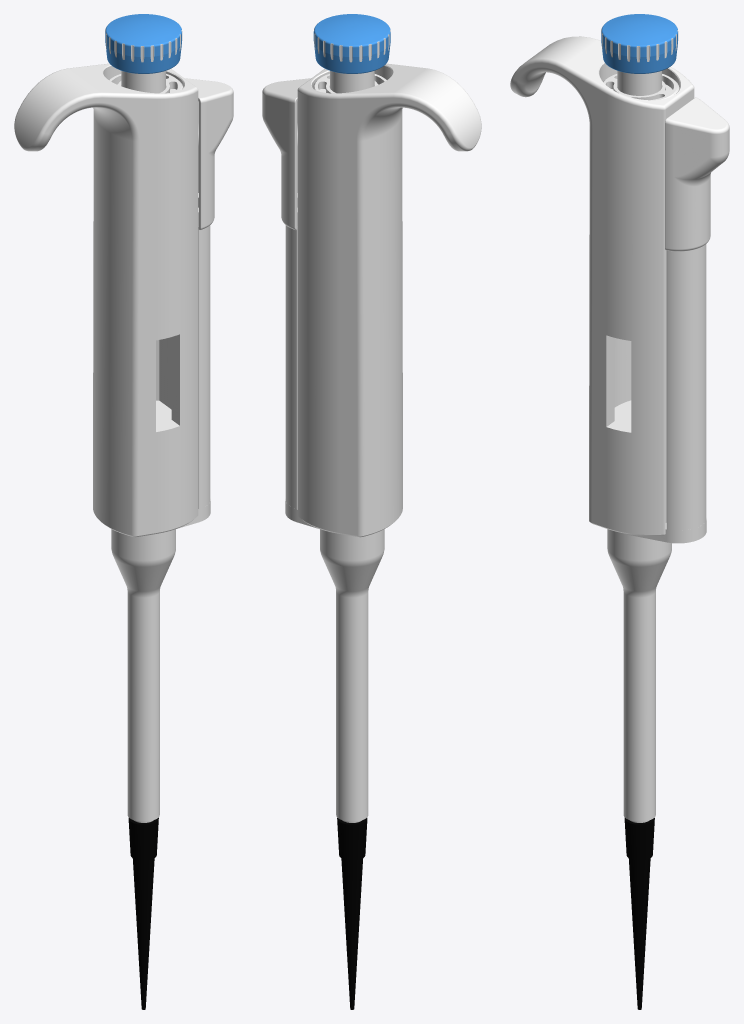
The model's file is small_ppt_new.fbx.
3 views of the same model, side by side, from view 1: azimuth 30°, elevation 25°; view 2: azimuth 150°, elevation 25°; view 3: azimuth 330°, elevation 25° (orthographic).
Visible parts, largest first — view 1: White-PW-MT11050, White-PW-MT11050-3, white-pw-mt11050, White-PW-MT11050-5, brown glass, White-PW-MT11050-2; view 2: White-PW-MT11050, White-PW-MT11050-3, white-pw-mt11050, White-PW-MT11050-5, brown glass, White-PW-MT11050-2; view 3: White-PW-MT11050, White-PW-MT11050-3, White-PW-MT11050-5, white-pw-mt11050, brown glass, White-PW-MT11050-2.
Boxes of the visible parts, x1,y1,x2,y2 form: White-PW-MT11050: (14,63,198,537); White-PW-MT11050-3: (111,193,210,821); white-pw-mt11050: (105,14,181,73); White-PW-MT11050-5: (185,78,233,229); brown glass: (128,817,158,1009); White-PW-MT11050-2: (105,29,182,93); White-PW-MT11050: (297,63,481,537); White-PW-MT11050-3: (285,193,384,821); white-pw-mt11050: (313,14,390,73); White-PW-MT11050-5: (262,78,310,229); brown glass: (337,818,367,1009); White-PW-MT11050-2: (314,29,390,93); White-PW-MT11050: (510,36,694,535); White-PW-MT11050-3: (607,244,706,821); White-PW-MT11050-5: (665,97,729,251); white-pw-mt11050: (601,14,677,73); brown glass: (624,818,654,1009); White-PW-MT11050-2: (601,29,678,95).
Bounding box in the file's own units: 5.95 × 26.79 × 2.3.
